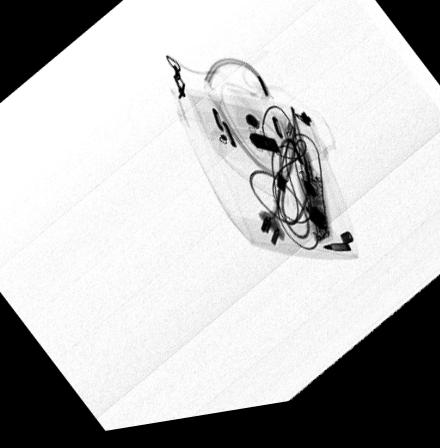Bullet: (319, 252, 352, 264)
